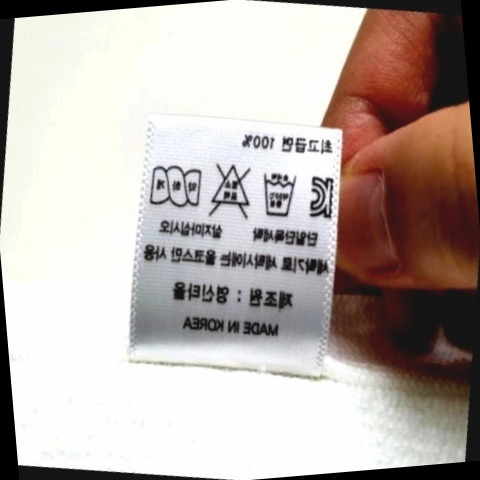hand_wash: (250, 167, 303, 225)
non_chlorine_bleach: (200, 154, 260, 225)
wring: (145, 159, 208, 215)
